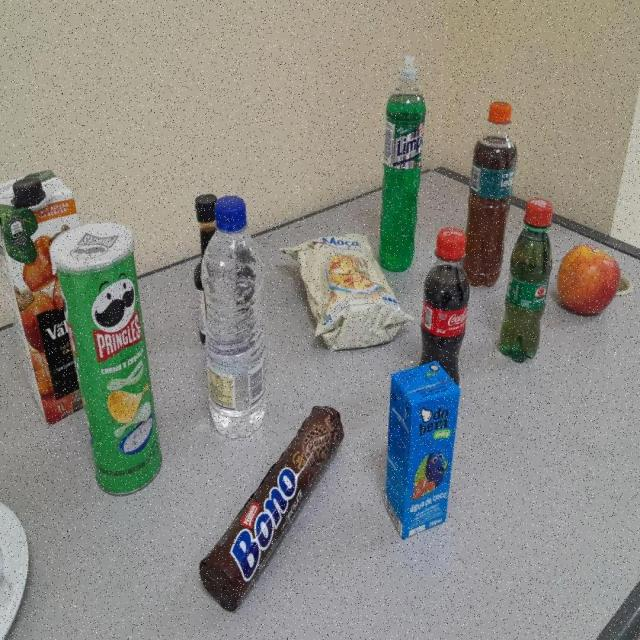Apple: (559, 242, 624, 317)
Cleaner: (379, 54, 428, 276)
CoconutWater: (381, 358, 459, 542)
Coke: (419, 230, 472, 382)
Cookies: (201, 404, 345, 616)
CornFlakes: (280, 230, 410, 354)
EnglishSauce: (196, 195, 218, 272)
Guarana: (498, 198, 553, 364)
IceTea: (463, 103, 519, 288)
Pringles: (48, 222, 167, 497)
Water: (200, 195, 270, 440)
